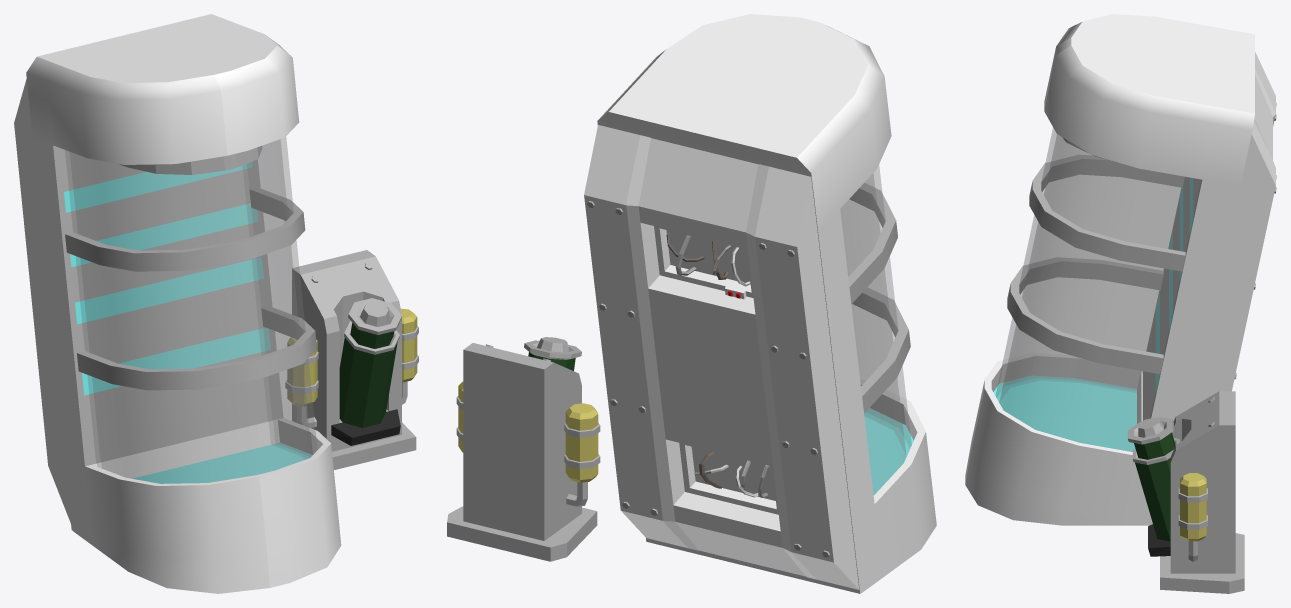
File: HibernationPod_02.fbx
The picture shows the model from 3 angles, left to right: view 1: azimuth 30°, elevation 25°; view 2: azimuth 150°, elevation 25°; view 3: azimuth 270°, elevation 25°; orthographic projection. The views are drawn at different scales.
Visible parts, largest first — view 1: HibernationPod_03; view 2: HibernationPod_03; view 3: HibernationPod_03.
Boxes of the visible parts, x1,y1,x2,y2 form: HibernationPod_03: (14,14,418,593); HibernationPod_03: (447,14,936,593); HibernationPod_03: (965,14,1276,593).
Bounding box in the file's own units: 677 × 852 × 548.
